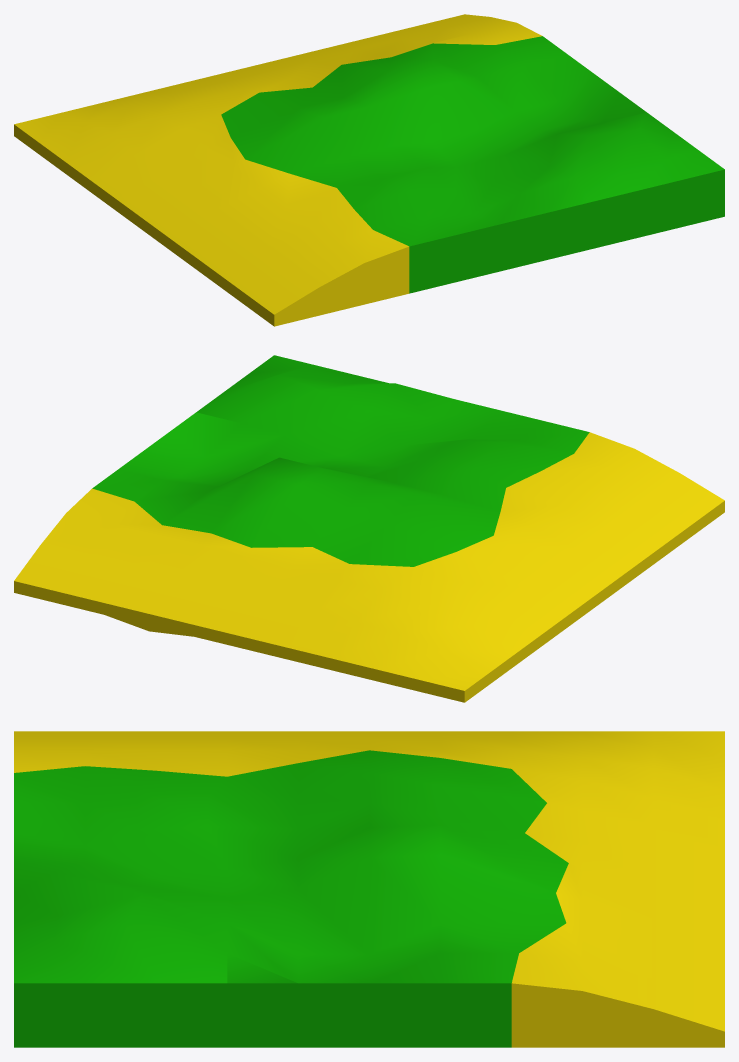
File: island_corner_02.fbx
3 renders of one model, top to bottom at view 1: azimuth 30°, elevation 25°; view 2: azimuth 150°, elevation 25°; view 3: azimuth 270°, elevation 25°, orthographic. The views are drawn at different scales.
Visible parts, largest first — view 1: Box001; view 2: Box001; view 3: Box001.
Part boxes in pixels (x1,y1,x2,y2): Box001: [14, 14, 724, 326]; Box001: [14, 355, 724, 702]; Box001: [14, 731, 724, 1047].
Size of the model in its own units: 400 by 68.36 by 400.
